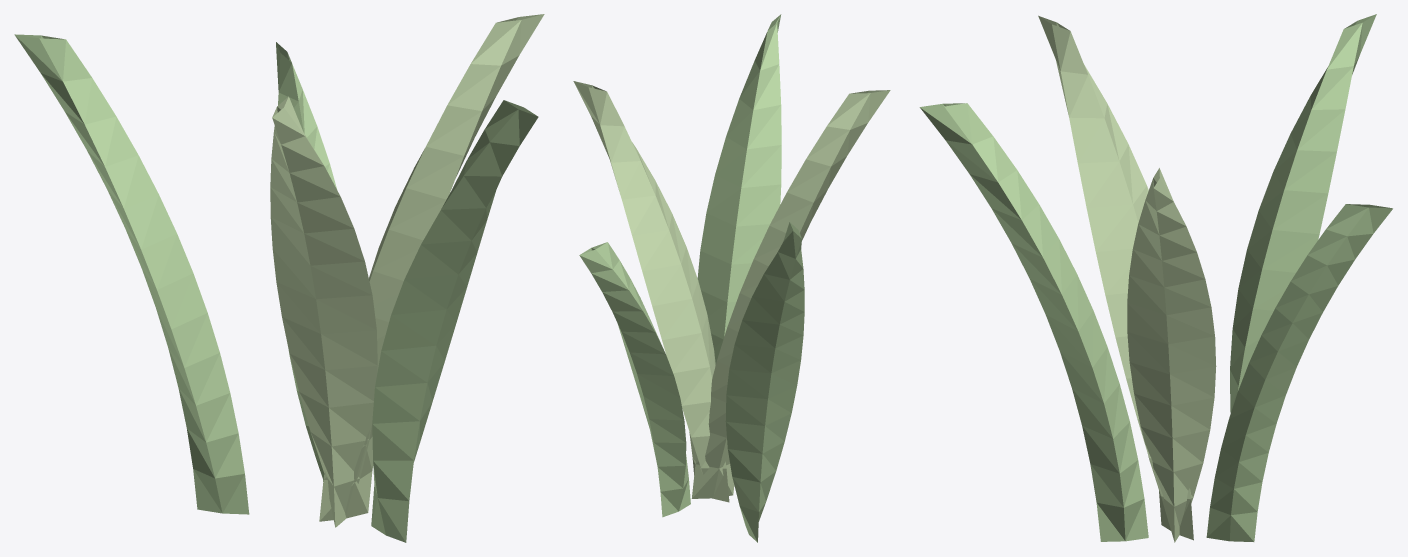
File: shore_grass_small.glb
3 views of the same model, side by side, from view 1: azimuth 30°, elevation 25°; view 2: azimuth 150°, elevation 25°; view 3: azimuth 270°, elevation 25° (orthographic). The views are drawn at different scales.
Parts seen in each view (by area): view 1: shore_grass_small_03, shore_grass_small_02, shore_grass_small_04, shore_grass_small_00, shore_grass_small_01; view 2: shore_grass_small_00, shore_grass_small_02, shore_grass_small_04, shore_grass_small_03, shore_grass_small_01; view 3: shore_grass_small_04, shore_grass_small_00, shore_grass_small_01, shore_grass_small_02, shore_grass_small_03.
Part boxes in pixels (x1,y1,x2,y2): shore_grass_small_03: (270, 96, 377, 527); shore_grass_small_02: (14, 34, 249, 514); shore_grass_small_04: (371, 100, 538, 542); shore_grass_small_00: (319, 14, 544, 521); shore_grass_small_01: (276, 42, 337, 481); shore_grass_small_00: (573, 81, 729, 502); shore_grass_small_02: (725, 222, 804, 542); shore_grass_small_04: (697, 14, 781, 364); shore_grass_small_03: (691, 90, 890, 498); shore_grass_small_01: (579, 242, 690, 517); shore_grass_small_04: (919, 103, 1148, 541); shore_grass_small_00: (1127, 168, 1216, 542); shore_grass_small_01: (1206, 204, 1392, 541); shore_grass_small_02: (1230, 14, 1376, 412); shore_grass_small_03: (1038, 15, 1193, 540).
Size of the model in its own units: 0.3901 by 0.448 by 0.4267.
